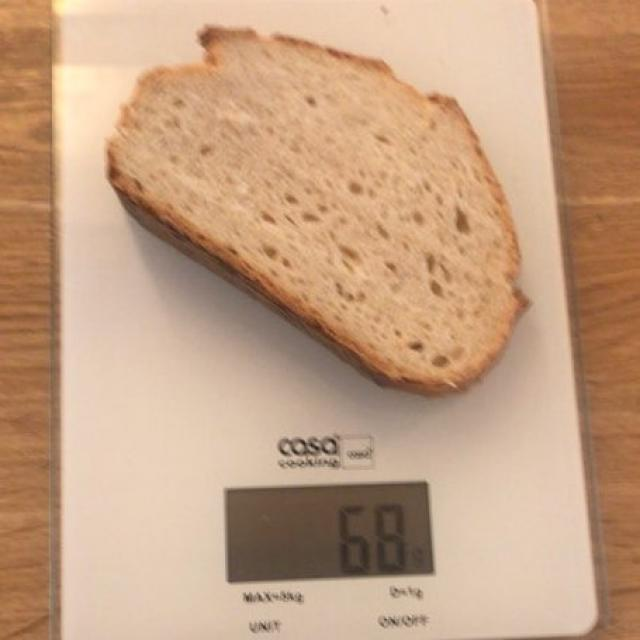bread-whole-wheat: (112, 32, 514, 385)
